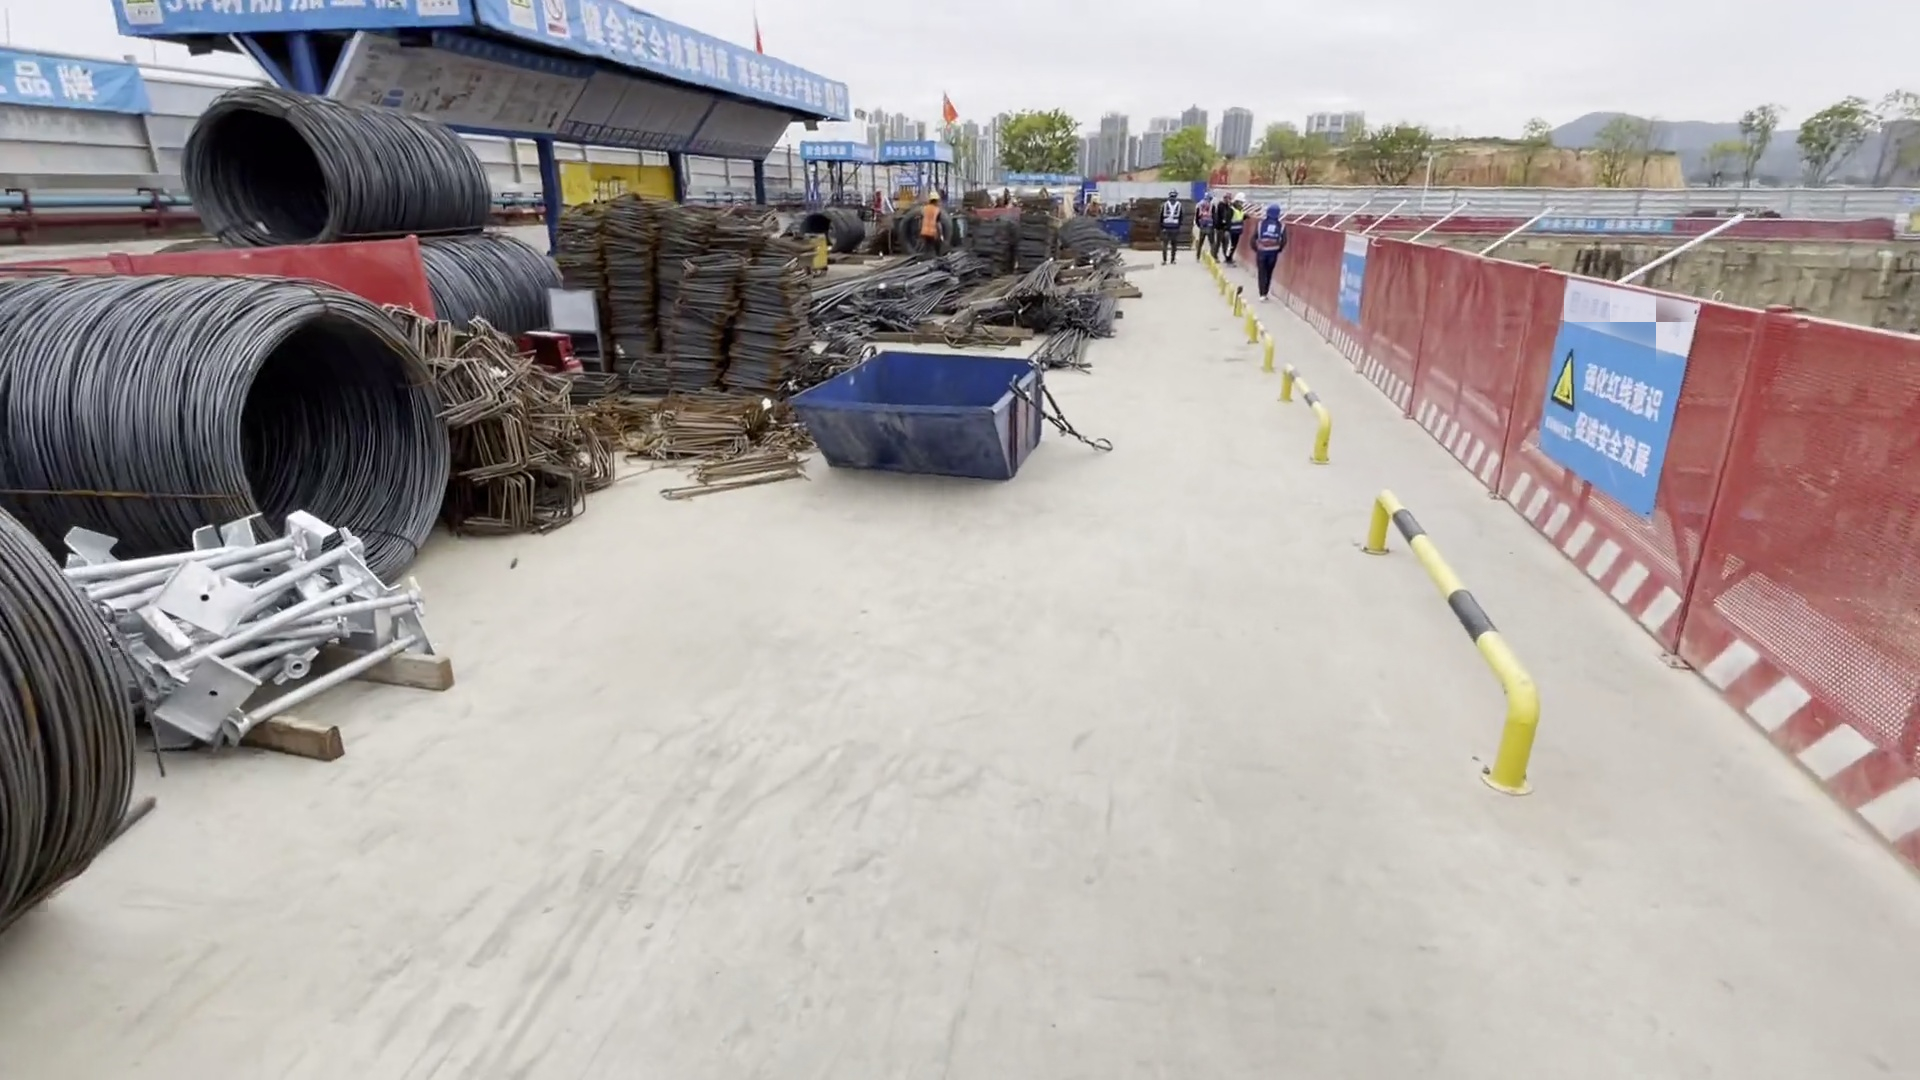fence: (1687, 300, 1920, 838), (1286, 217, 1548, 489)
helmet: (1261, 205, 1279, 219), (1236, 192, 1245, 204), (927, 192, 940, 200)
hopper: (777, 357, 1068, 480)
person: (1250, 205, 1280, 303), (1159, 190, 1183, 266), (918, 192, 945, 256), (1192, 190, 1215, 264), (1212, 194, 1234, 265), (1226, 195, 1246, 264)
rebar: (969, 252, 1138, 371), (803, 260, 962, 333)
slogan: (1546, 317, 1683, 516), (1329, 249, 1369, 323)
vest: (1258, 220, 1280, 252), (921, 205, 940, 239), (1163, 199, 1179, 228), (1231, 208, 1244, 232)
